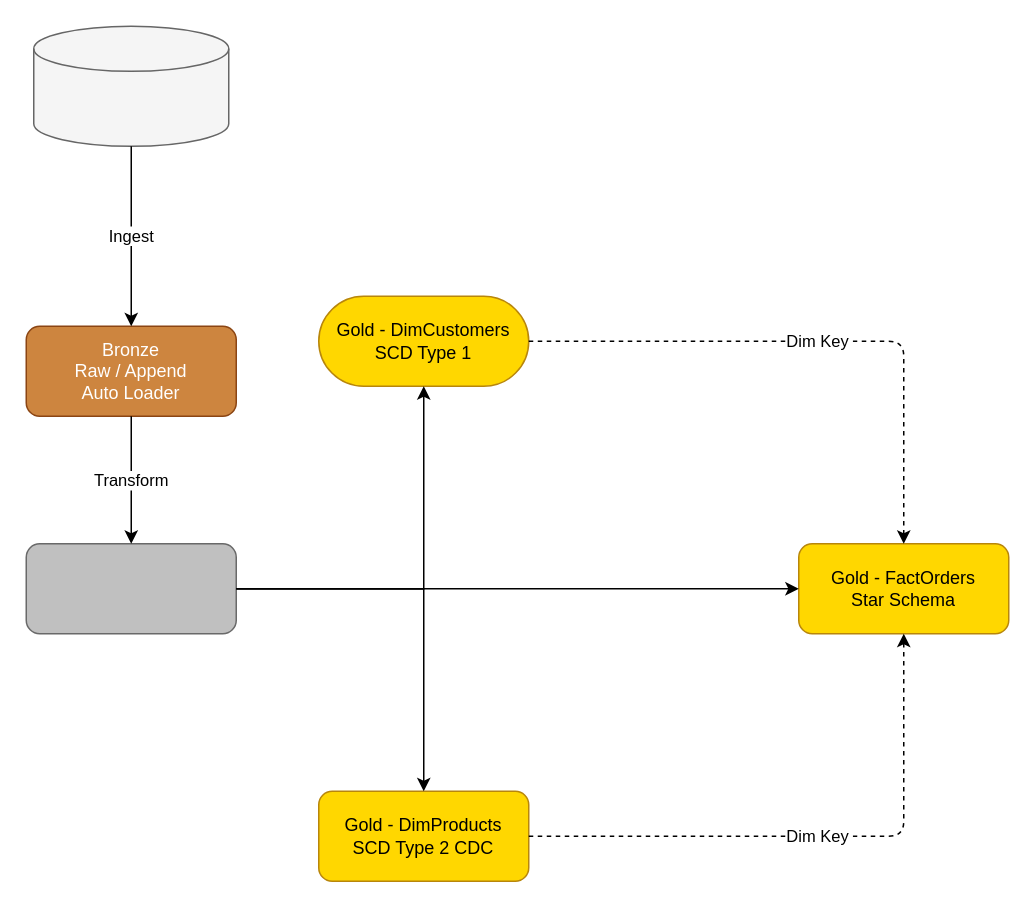
Some shapes in this 1035 by 908 pixel diagram are drawn without their labels. The box of each missing label's shape, as (x1, y1, x2, y2) in pixels:
Silver Cleaned / Enriched Delta (Overwrite): (25, 542, 236, 634)
Source (ADLS) Parquet Files: (32, 25, 229, 146)
